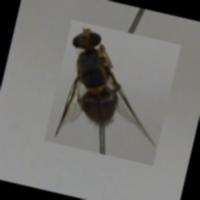Oriental-fruit-fly: (44, 19, 181, 164)
